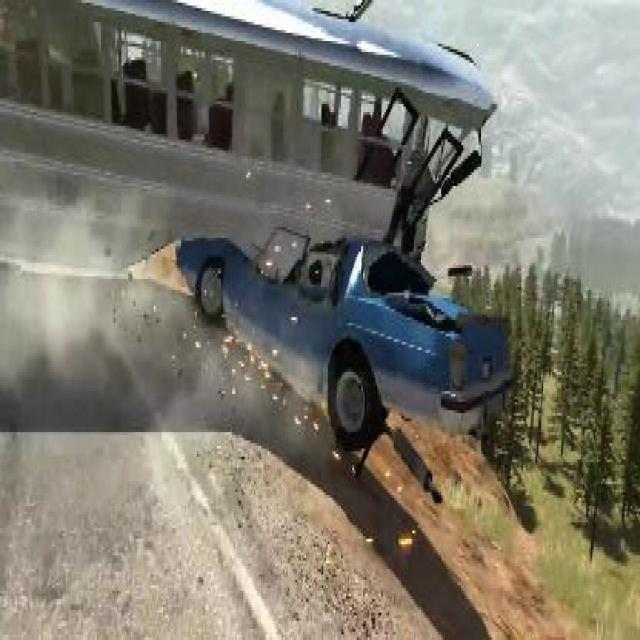accident: (0, 0, 525, 490)
